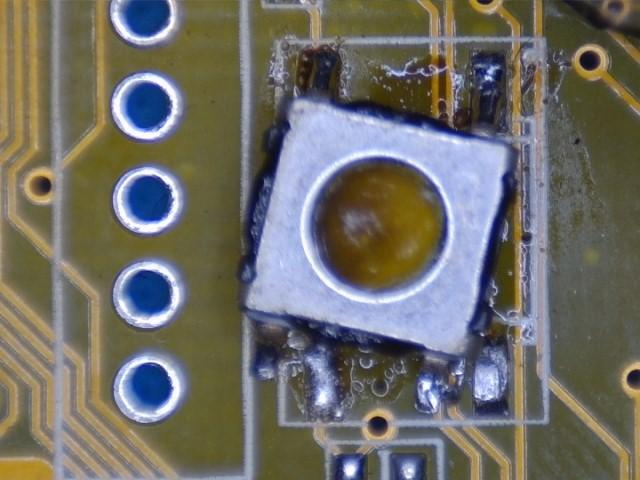pcb_defect: (238, 47, 519, 421)
